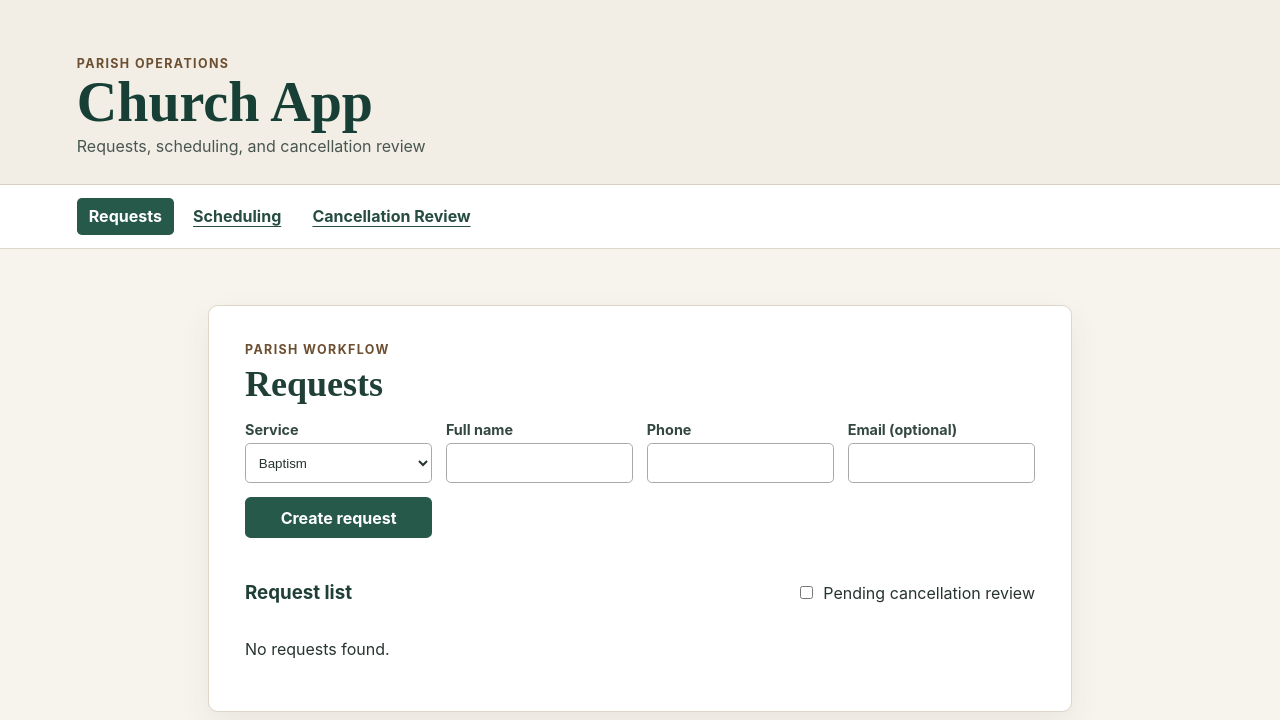
Test case: application foundation › uses the dedicated pending-review filter without adding a row badge
Click the checkbox labelled "Pending cancellation review" at (807, 593), box [800,586,813,599]
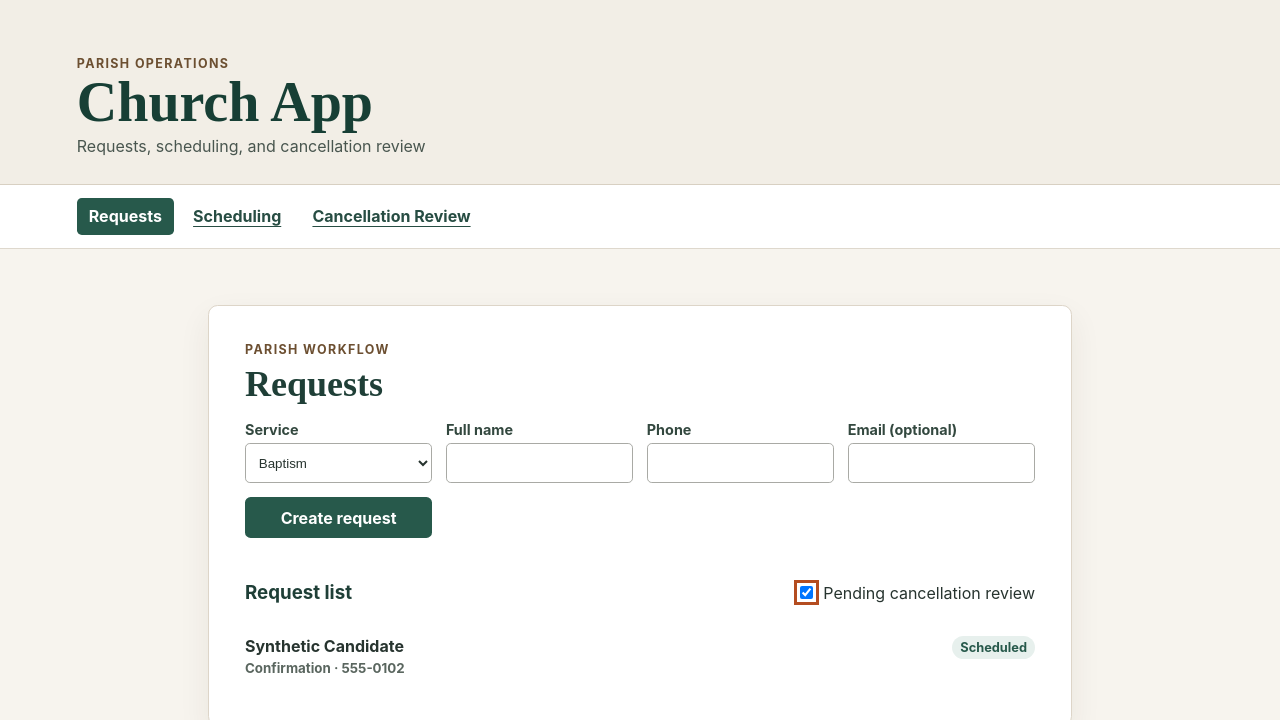
Result: the text "Synthetic Candidate" is shown at [245,636,405,656]
Result: the text "Scheduled" is shown at [952,636,1035,659]
